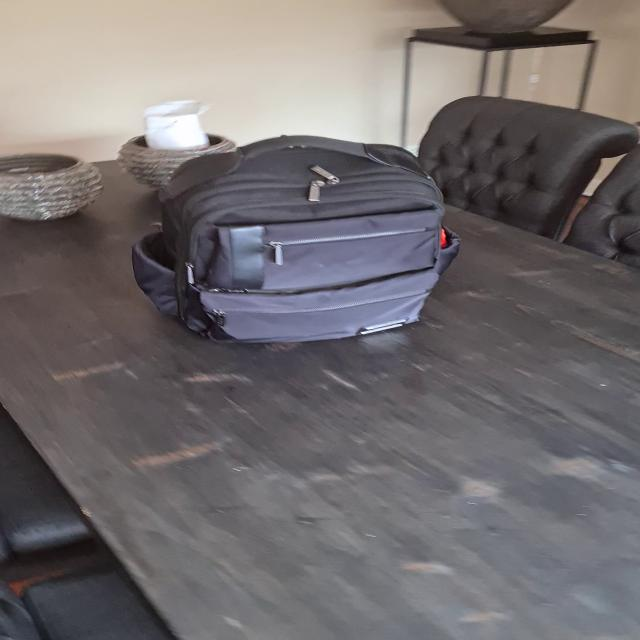backpack: (112, 117, 473, 349)
